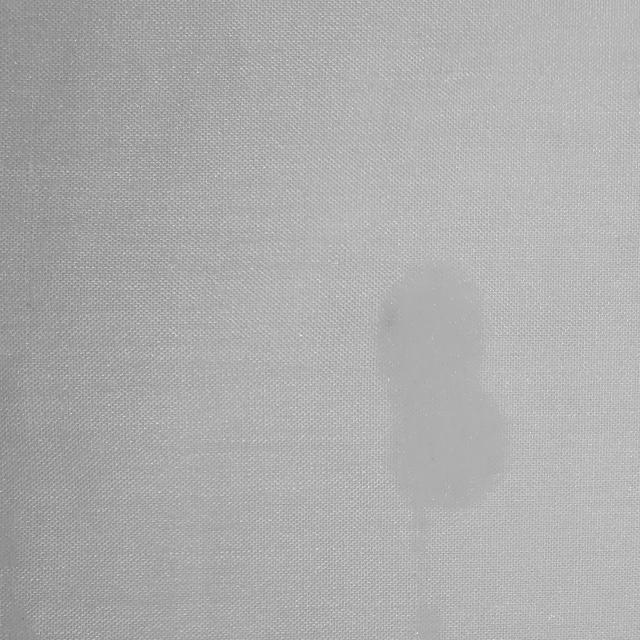Stain: (378, 261, 507, 639)
